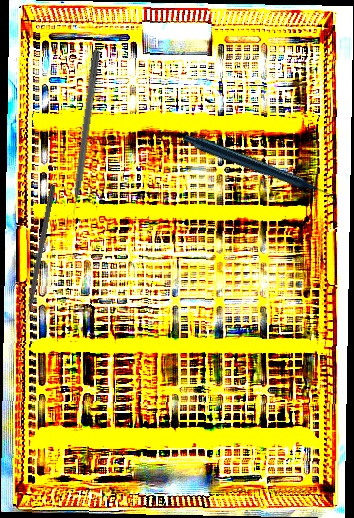Handpiece: (182, 86, 336, 254)
Hook Surgical: (21, 183, 56, 328)
Pusher: (66, 48, 101, 228)
